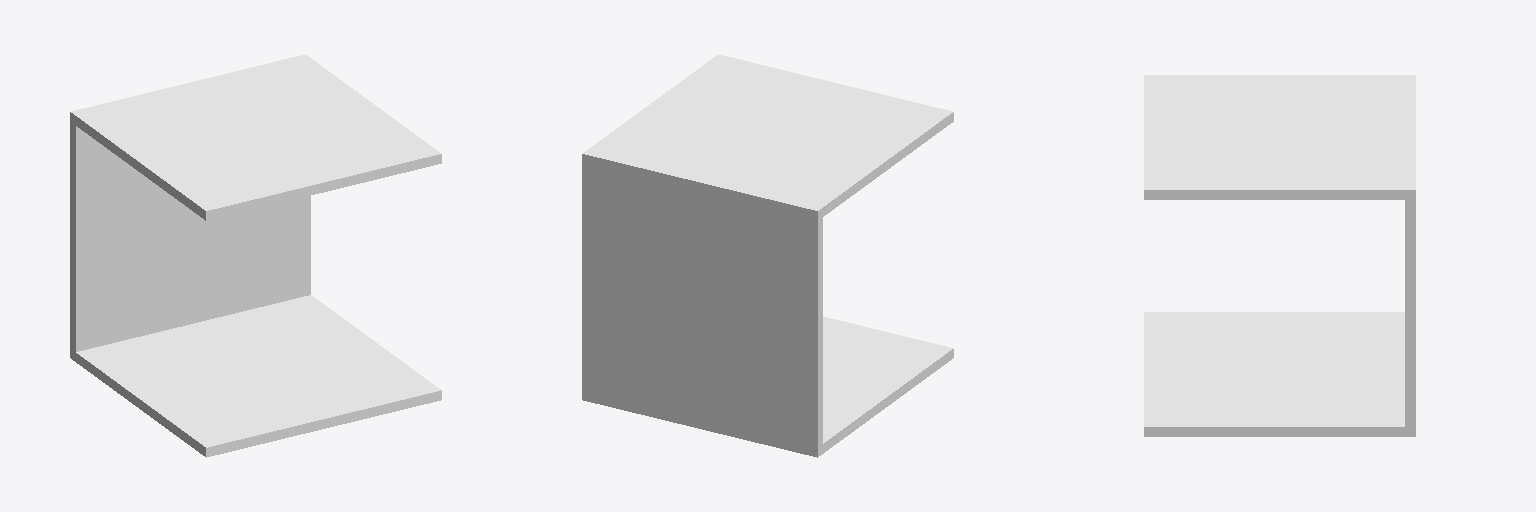
Rendered from Basico_Tunel.obj.
The picture shows the model from 3 angles: view 1: azimuth 30°, elevation 25°; view 2: azimuth 150°, elevation 25°; view 3: azimuth 270°, elevation 25°; orthographic projection.
Size of the model in its own units: 25 by 25 by 25.